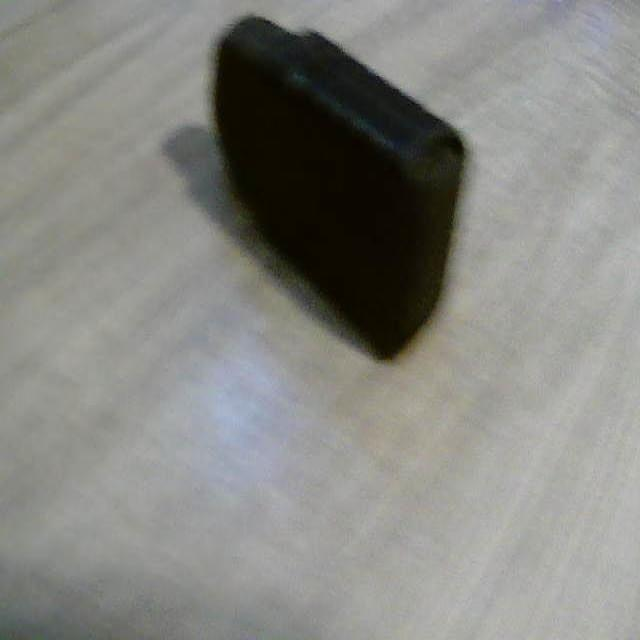borracha: (189, 6, 494, 382)
